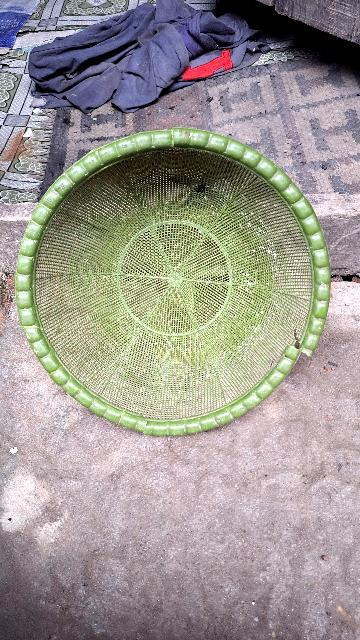hardplastic: (27, 129, 328, 443)
